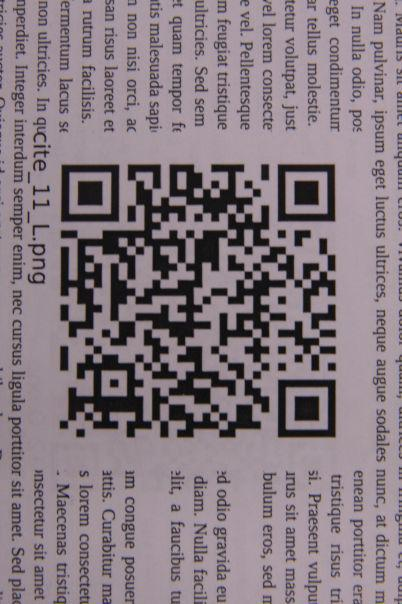Finder pattern: (54, 159, 129, 229), (271, 372, 342, 445), (271, 158, 341, 230)
